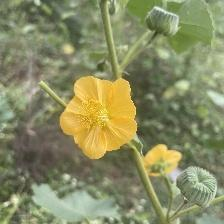indian mallow: (60, 76, 140, 160), (141, 144, 185, 180)
